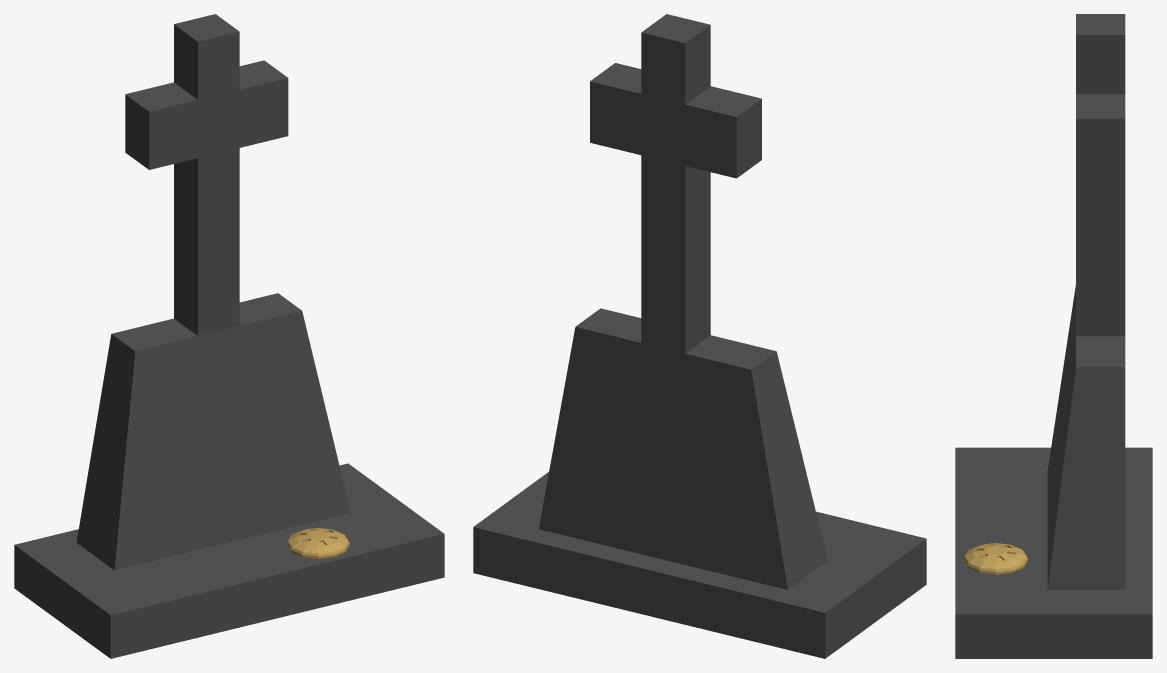
Rendered from NEW586_cross_memorial_LOD1.glb.
The picture shows the model from 3 angles, left to right: view 1: azimuth 30°, elevation 25°; view 2: azimuth 150°, elevation 25°; view 3: azimuth 270°, elevation 25°; orthographic projection. The views are drawn at different scales.
Parts seen in each view (by area): view 1: Splayed inscription die, Broad rectangular plinth, Coherent Latin cross, Single flower grille cap; view 2: Splayed inscription die, Broad rectangular plinth, Coherent Latin cross; view 3: Broad rectangular plinth, Splayed inscription die, Coherent Latin cross, Single flower grille cap.
Part boxes in pixels (box(x1,y1,x2,y2)): Splayed inscription die: box(76, 293, 350, 570); Broad rectangular plinth: box(14, 463, 444, 658); Coherent Latin cross: box(125, 14, 288, 335); Single flower grille cap: box(286, 528, 349, 558); Splayed inscription die: box(538, 308, 827, 589); Broad rectangular plinth: box(473, 472, 926, 658); Coherent Latin cross: box(590, 14, 761, 353); Broad rectangular plinth: box(955, 447, 1152, 658); Splayed inscription die: box(1047, 285, 1125, 589); Coherent Latin cross: box(1076, 14, 1125, 336); Single flower grille cap: box(963, 543, 1027, 574).
Bounding box in the file's own units: 0.6096 × 0.9398 × 0.3048.
